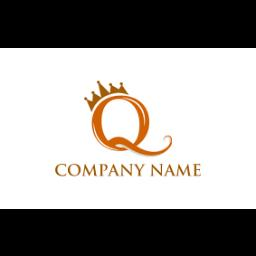q: (88, 91, 176, 159)
